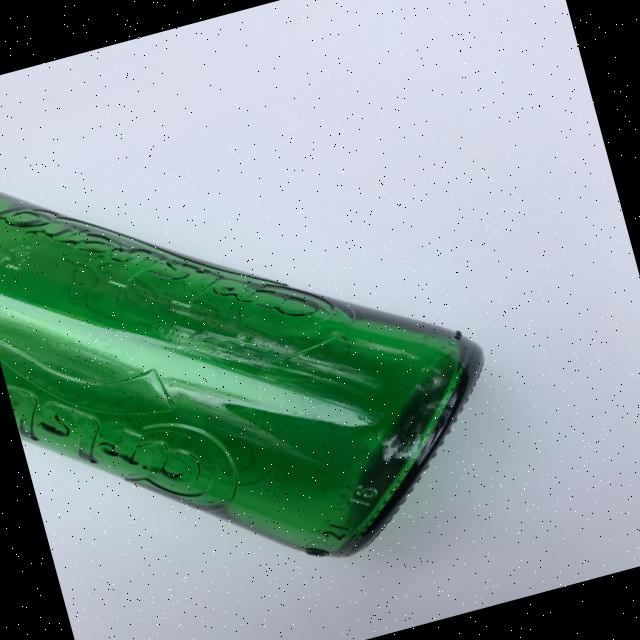glass: (0, 58, 526, 630)
